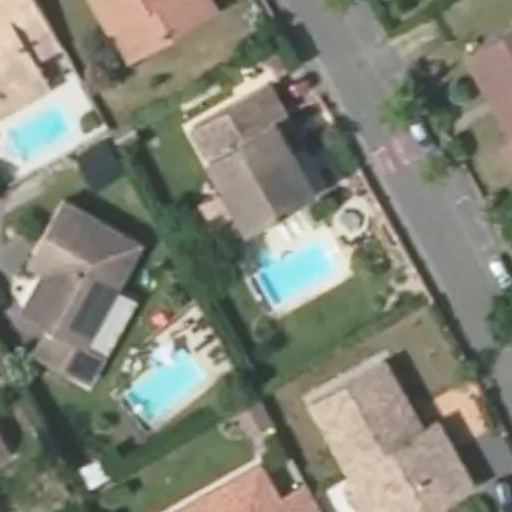pool: (206, 228, 297, 240)
